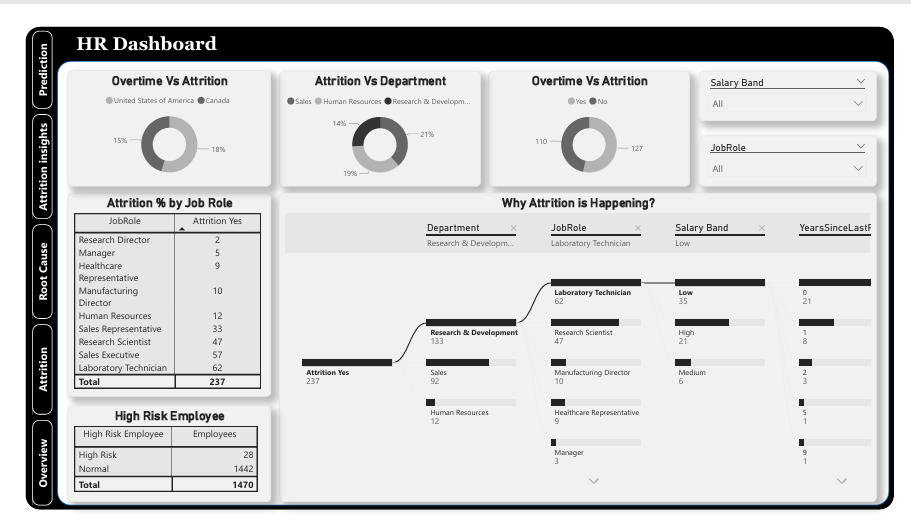

This screenshot's page, from the dashboard's own definition file:
{"tool":"powerbi","page":{"name":"Attrition","canvas":[1280,720],"ordinal":1},"visuals":[{"type":"shape","box":[12.5,9,1259.1,701.2],"z":0},{"type":"shape","box":[59.1,59.1,1206.3,644.8],"z":1000},{"type":"shape","box":[74.3,8.6,228.6,50],"z":2000},{"type":"actionButton","box":[23.3,580.3,28.7,123.6],"z":3000},{"type":"actionButton","box":[23.3,440.6,28.7,131.6],"z":4000},{"type":"actionButton","box":[23.3,296.4,28.7,136.1],"z":5000},{"type":"actionButton","box":[23.3,136.1,28.7,152.2],"z":6000},{"type":"actionButton","box":[23.3,15.2,28.7,112.8],"z":7000},{"type":"tableEx","title":"Attrition % by Job Role","fields":{"Values":["DIM_Employee.JobRole","Key-Measures.Attrition Yes"]},"box":[74.3,250,294.3,295.7],"z":8000},{"type":"donutChart","title":"Overtime Vs Attrition","fields":{"Category":["FACT_Employee_Records.OverTime"],"Y":["Key-Measures.Attrition Yes"]},"box":[684.2,72.5,291.9,168.4],"z":9000},{"type":"donutChart","title":"Attrition Vs Department","fields":{"Category":["DIM_Department.Department"],"Y":["Key-Measures.Attrition %"]},"box":[381.5,72.5,291,168.4],"z":10000},{"type":"slicer","title":"Salary Band","fields":{"Values":["FACT_Employee_Records.Salary Band New"]},"box":[988.6,72.9,258.6,72.9],"z":11000},{"type":"slicer","title":"Job Role","fields":{"Values":["DIM_Employee.JobRole"]},"box":[988.7,166.6,258.8,74.3],"z":12000},{"type":"decompositionTreeVisual","title":"Why Attrition is Happening?","fields":{"Analyze":["Key-Measures.Attrition Yes"],"ExplainBy":["DIM_Department.Department","DIM_Employee.JobRole","FACT_Employee_Records.Salary Band New","FACT_Employee_Records.YearsSinceLastPromotion"]},"box":[381.5,249.9,866,448.7],"z":13000},{"type":"donutChart","title":"Overtime Vs Attrition","fields":{"Category":["Geo.Country"],"Y":["Key-Measures.Attrition %"]},"box":[74.3,71.6,294.6,169.3],"z":14000},{"type":"tableEx","title":"High Risk Employee","fields":{"Values":["FACT_Employee_Records.High Risk Employee","Key-Measures.Employees"]},"box":[74.3,558.6,294.3,140],"z":15000}]}

Visuals, with their boxes on the page's 1280x720 design canvas (x1, y1, x2, y2). These are canvas units, not pixel positions in the 911x532 screenshot, which may show the page scaled, cropped or inside an application window:
shape: [12, 9, 1272, 710]
shape: [59, 59, 1265, 704]
shape: [74, 9, 303, 59]
actionButton: [23, 580, 52, 704]
actionButton: [23, 441, 52, 572]
actionButton: [23, 296, 52, 432]
actionButton: [23, 136, 52, 288]
actionButton: [23, 15, 52, 128]
"Attrition % by Job Role" tableEx: [74, 250, 369, 546]
"Overtime Vs Attrition" donutChart: [684, 72, 976, 241]
"Attrition Vs Department" donutChart: [382, 72, 672, 241]
"Salary Band" slicer: [989, 73, 1247, 146]
"Job Role" slicer: [989, 167, 1248, 241]
"Why Attrition is Happening?" decompositionTreeVisual: [382, 250, 1248, 699]
"Overtime Vs Attrition" donutChart: [74, 72, 369, 241]
"High Risk Employee" tableEx: [74, 559, 369, 699]
